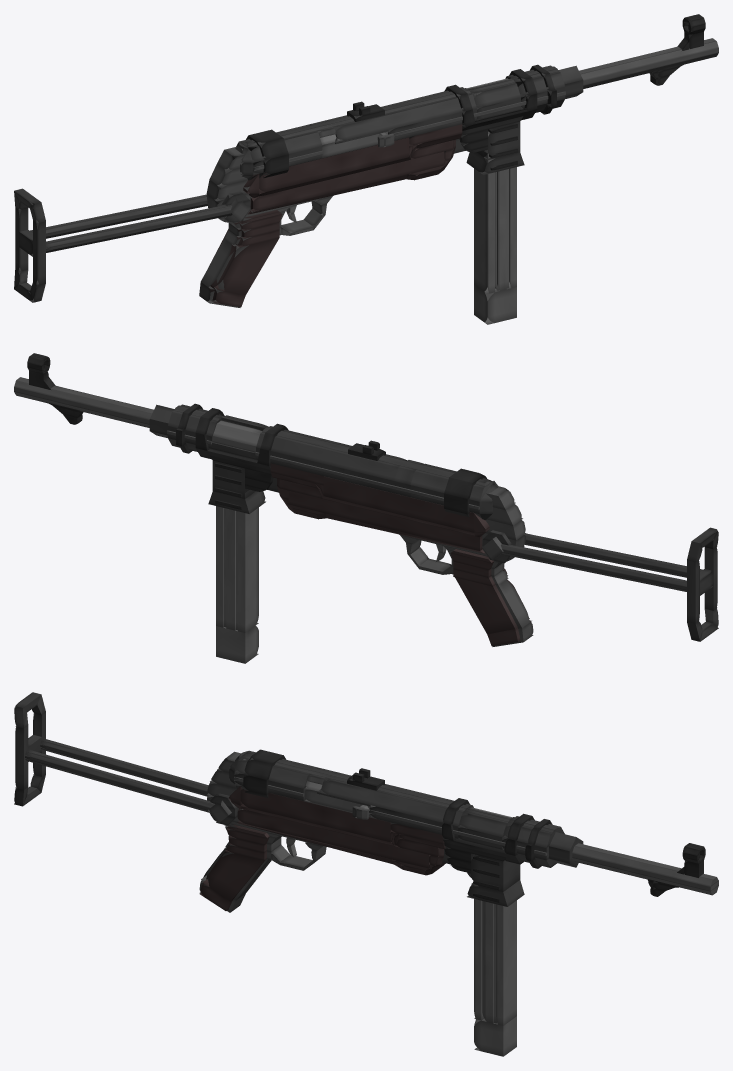
The picture shows the model from 3 angles, top to bottom: view 1: azimuth 30°, elevation 25°; view 2: azimuth 150°, elevation 25°; view 3: azimuth 330°, elevation 25°; orthographic projection.
Parts seen in each view (by area): view 1: gunModel15, gunModel48, ammoModel0, gunModel7, gunModel89, defaultBarrelModel1, ammoModel3, gunModel107, ammoModel1, gunModel42, gunModel110, ammoModel2 (+23 smaller); view 2: gunModel15, gunModel48, ammoModel0, gunModel7, gunModel89, defaultBarrelModel1, gunModel110, ammoModel3, ammoModel1, gunModel107, gunModel42, ammoModel2 (+22 smaller); view 3: gunModel15, gunModel48, ammoModel2, gunModel7, gunModel89, defaultBarrelModel1, gunModel107, ammoModel3, gunModel110, ammoModel1, gunModel0, gunModel42 (+15 smaller).
Part boxes in pixels (<box>): gunModel15: <box>259,137,409,193</box>; gunModel48: <box>250,151,444,211</box>; ammoModel0: <box>474,133,494,293</box>; gunModel7: <box>324,87,476,141</box>; gunModel89: <box>210,236,279,295</box>; defaultBarrelModel1: <box>579,38,718,80</box>; ammoModel3: <box>474,284,516,324</box>; gunModel107: <box>46,205,231,247</box>; ammoModel1: <box>495,169,506,291</box>; gunModel42: <box>241,88,470,147</box>; gunModel110: <box>30,194,207,233</box>; ammoModel2: <box>509,167,516,288</box>; gunModel15: <box>323,476,473,532</box>; gunModel48: <box>288,490,482,550</box>; ammoModel0: <box>238,507,258,632</box>; gunModel7: <box>256,426,407,480</box>; gunModel89: <box>455,577,529,634</box>; defaultBarrelModel1: <box>14,377,153,419</box>; gunModel110: <box>501,544,686,586</box>; ammoModel3: <box>216,625,258,663</box>; ammoModel1: <box>226,508,235,630</box>; gunModel107: <box>524,533,702,572</box>; gunModel42: <box>262,427,491,486</box>; ammoModel2: <box>216,506,223,627</box>; gunModel15: <box>240,788,391,842</box>; gunModel48: <box>237,808,430,868</box>; ammoModel2: <box>496,900,516,1025</box>; gunModel7: <box>320,771,473,826</box>; gunModel89: <box>203,851,265,901</box>; defaultBarrelModel1: <box>572,843,718,886</box>; gunModel107: <box>25,750,214,807</box>; ammoModel3: <box>474,1016,516,1056</box>; gunModel110: <box>40,738,208,791</box>; ammoModel1: <box>484,901,493,1023</box>; gunModel0: <box>471,854,520,891</box>; gunModel42: <box>241,752,470,811</box>.
Bounding box in the file's own units: 23.5 × 8.13 × 1.6.
